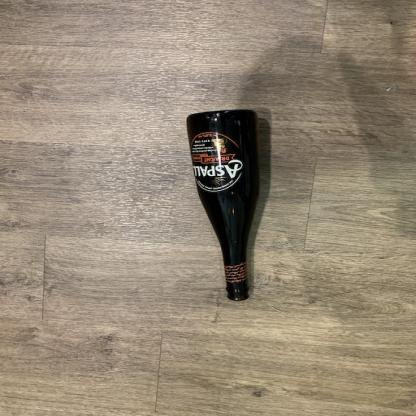trash: (180, 107, 272, 304)
